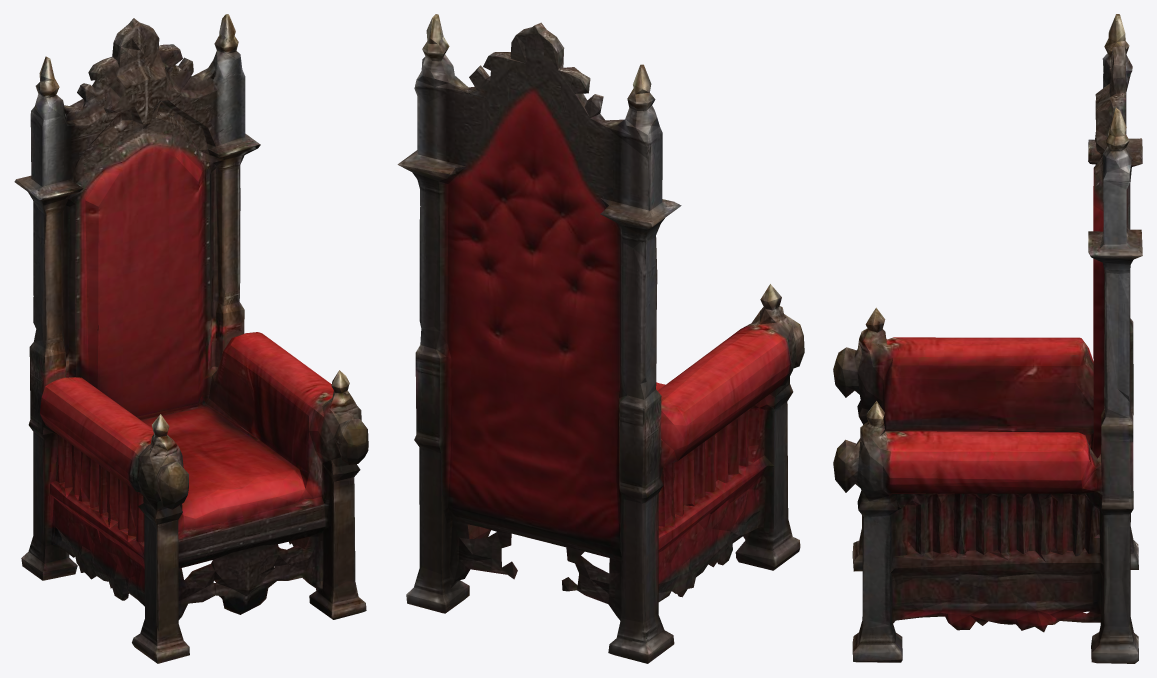
The model's file is throne_red_gothic_lod0.glb.
The picture shows the model from 3 angles, left to right: view 1: azimuth 30°, elevation 25°; view 2: azimuth 150°, elevation 25°; view 3: azimuth 270°, elevation 25°; orthographic projection. The views are drawn at different scales.
Visible parts, largest first — view 1: throne_red_gothic_lod0; view 2: throne_red_gothic_lod0; view 3: throne_red_gothic_lod0.
Boxes of the visible parts, bbox=[...] form: throne_red_gothic_lod0: bbox=[14, 14, 368, 663]; throne_red_gothic_lod0: bbox=[397, 14, 804, 663]; throne_red_gothic_lod0: bbox=[833, 14, 1142, 663].
Size of the model in its own units: 0.8145 by 1.8 by 0.896.
1 material, 1 textured.
